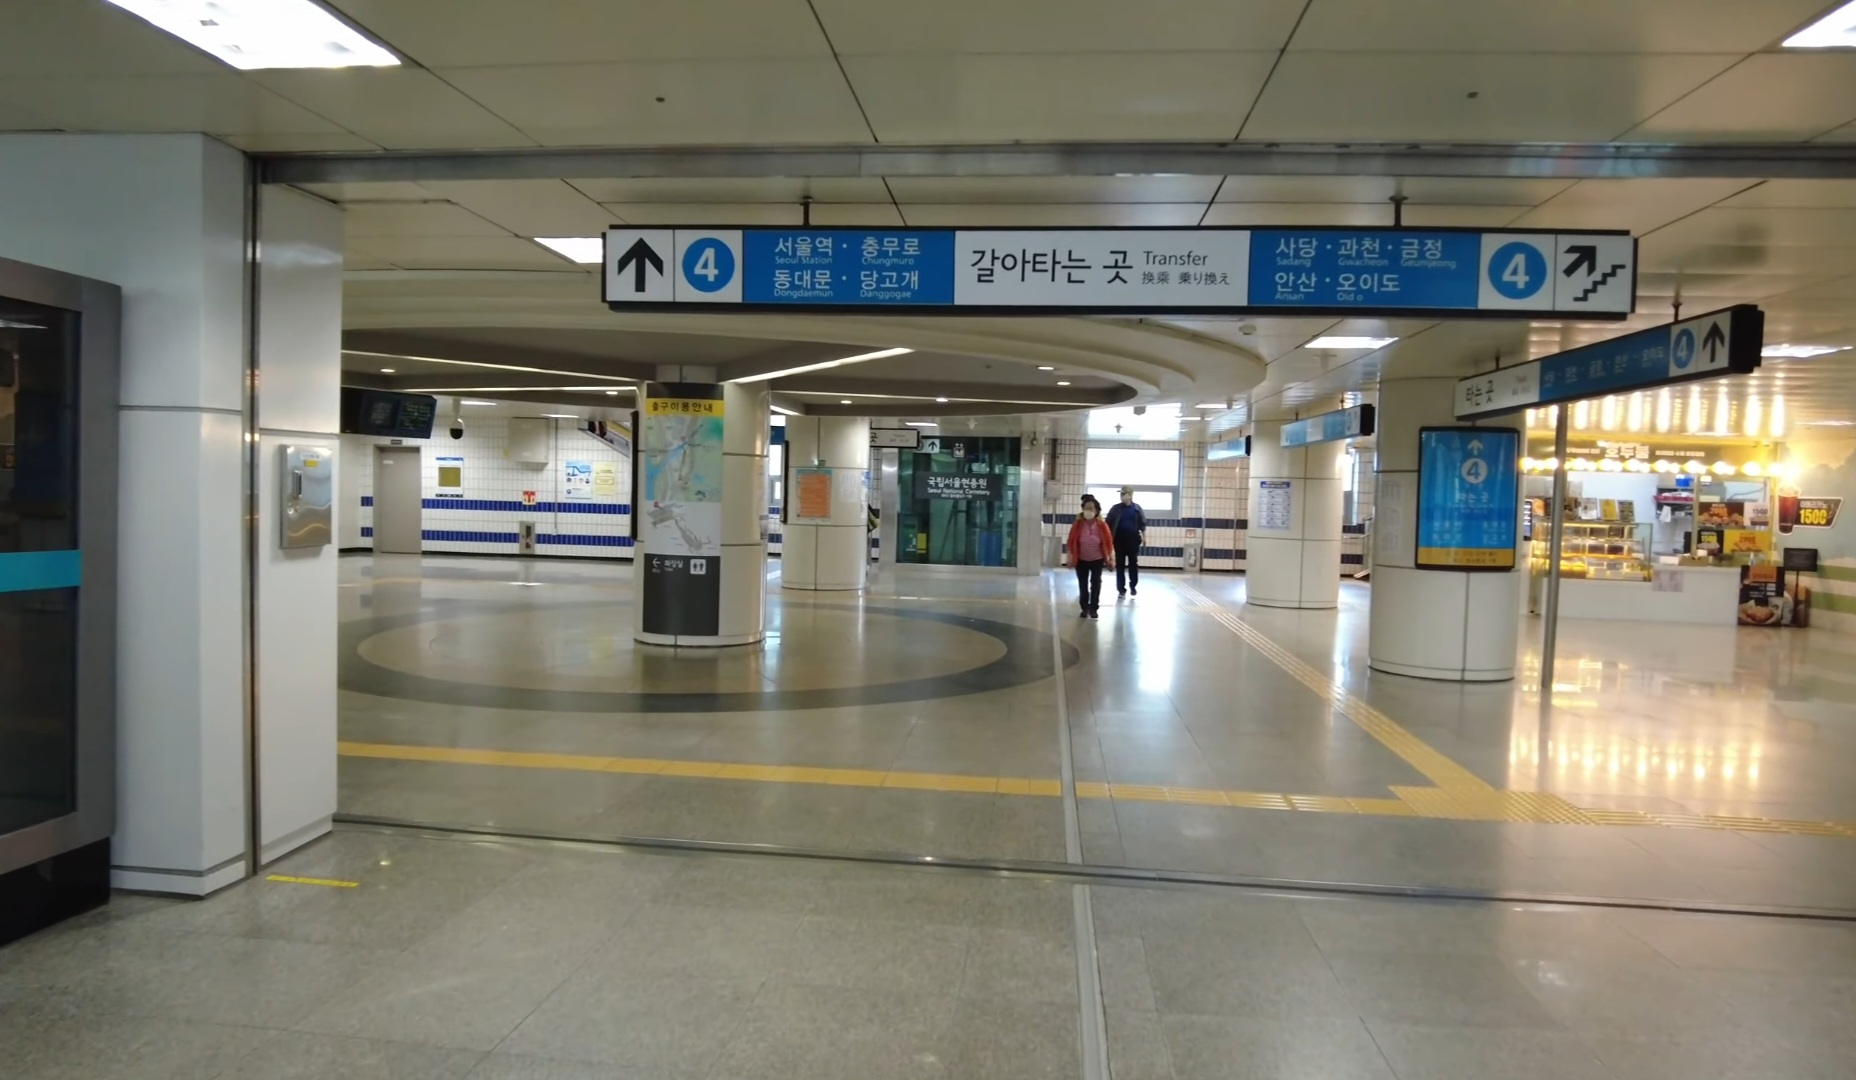signBoard: (586, 212, 1644, 324)
